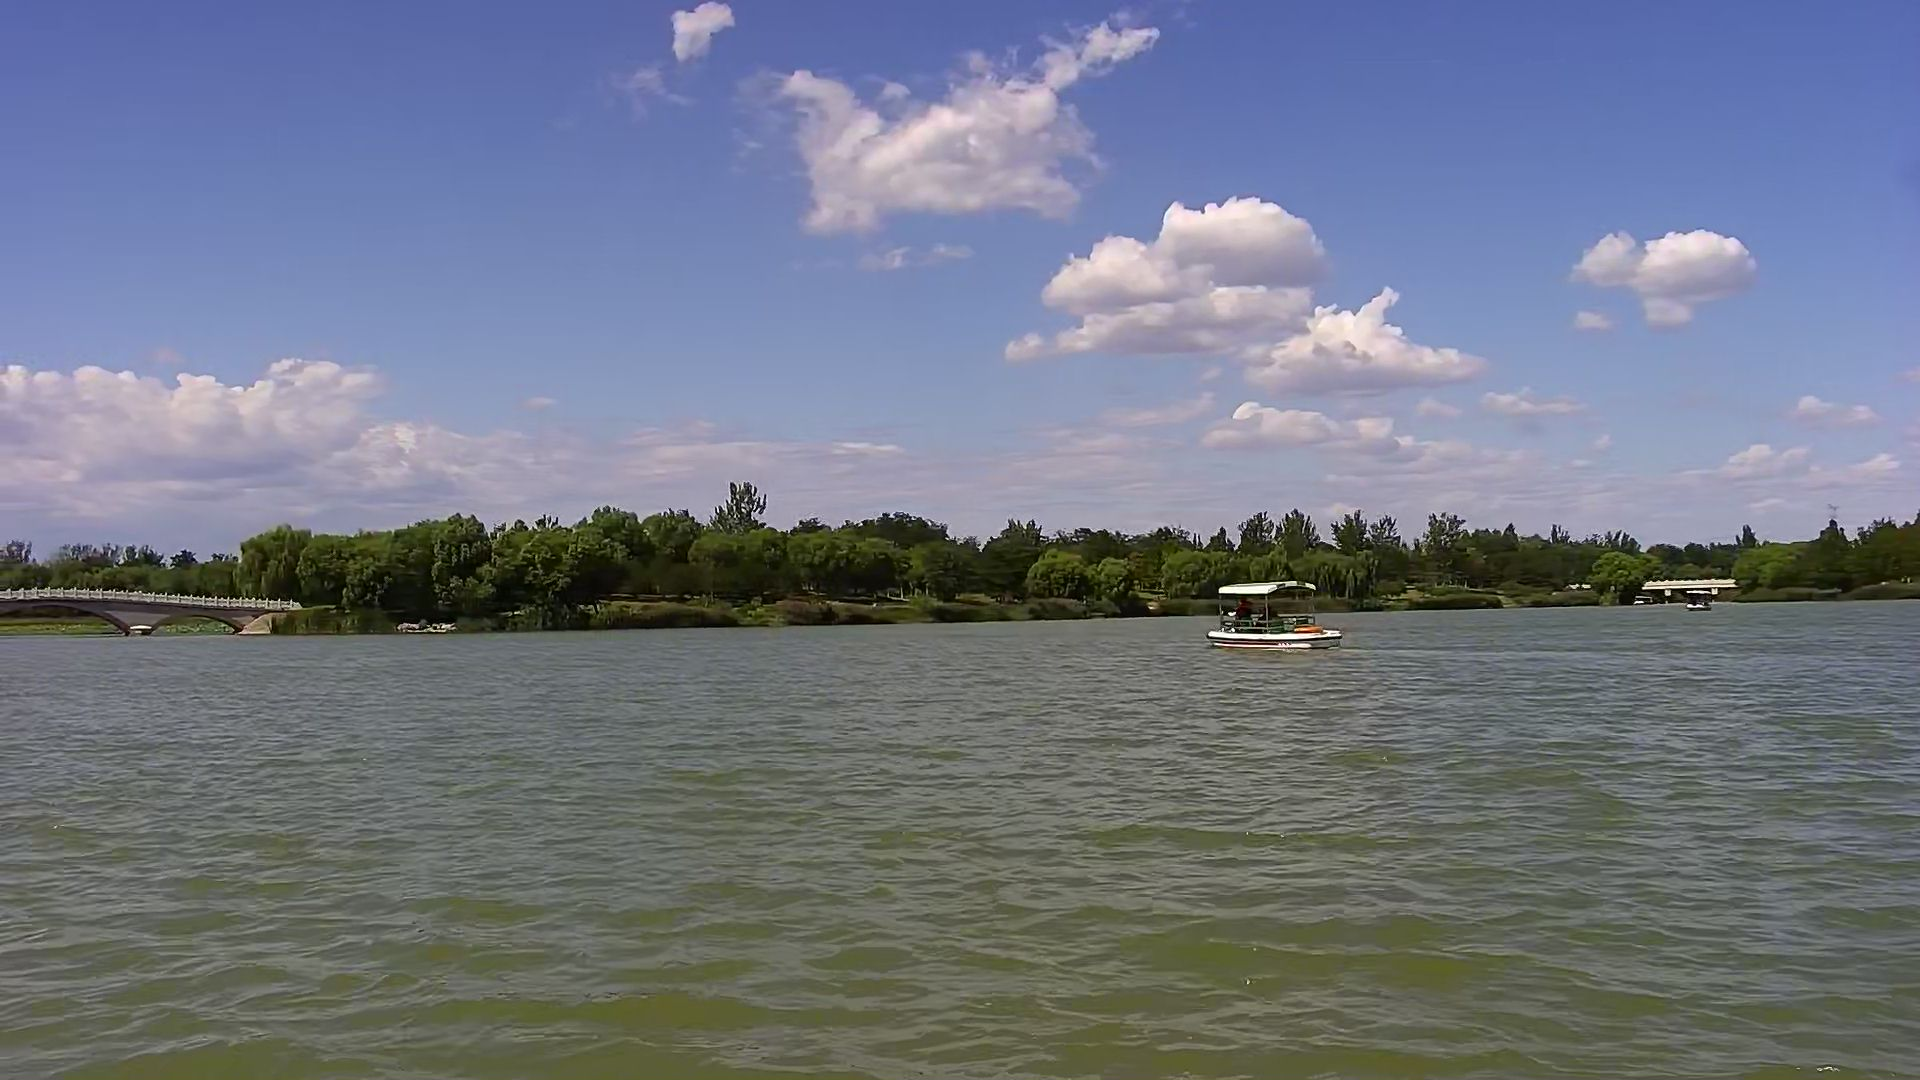boat: (1207, 579, 1342, 655)
bridge: (1, 585, 273, 640), (1643, 579, 1735, 603)
